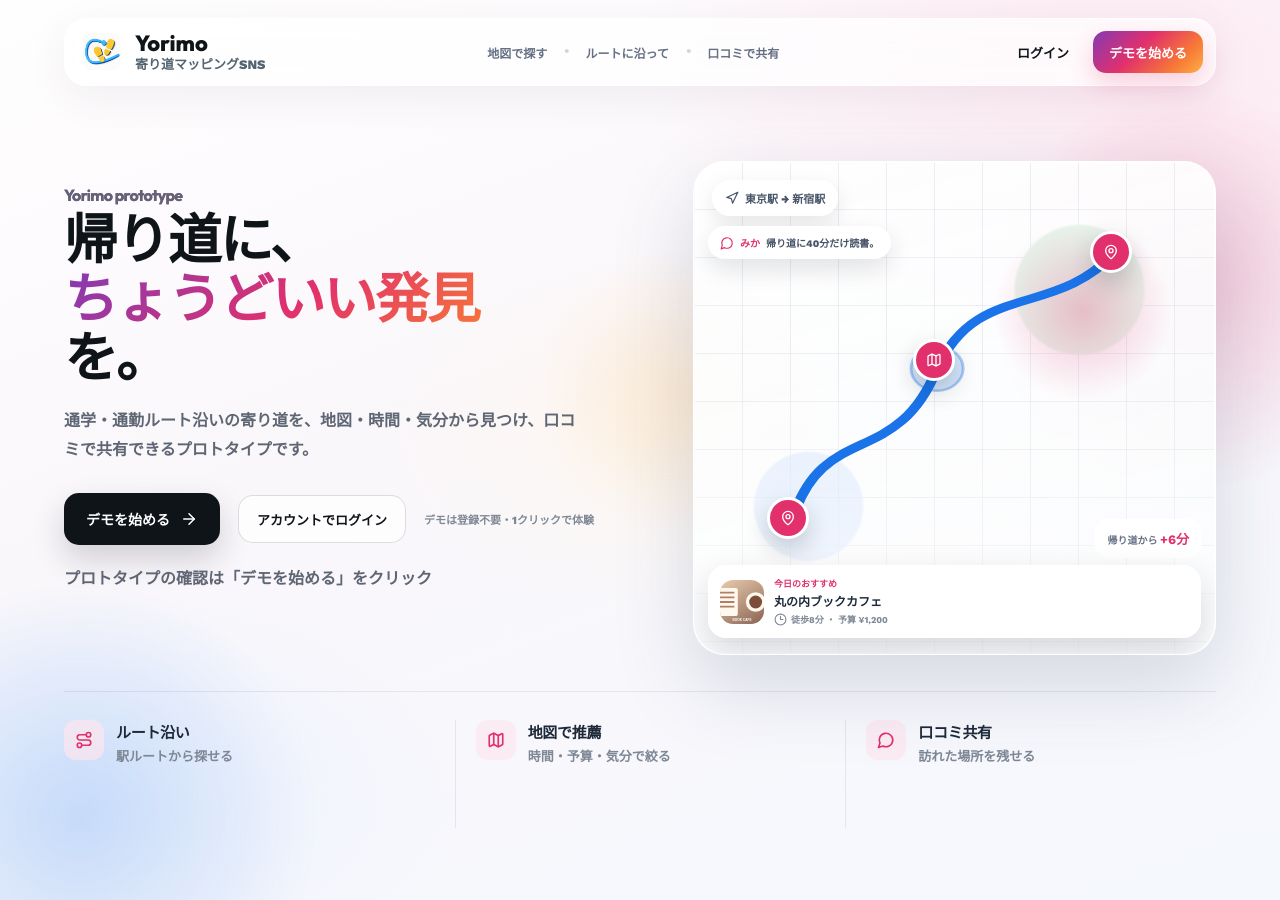
it: Yorimo frontend › offers account registration from the same auth dialog
Click the button "ログイン" at (1043, 52), box [1001,31,1085,73]
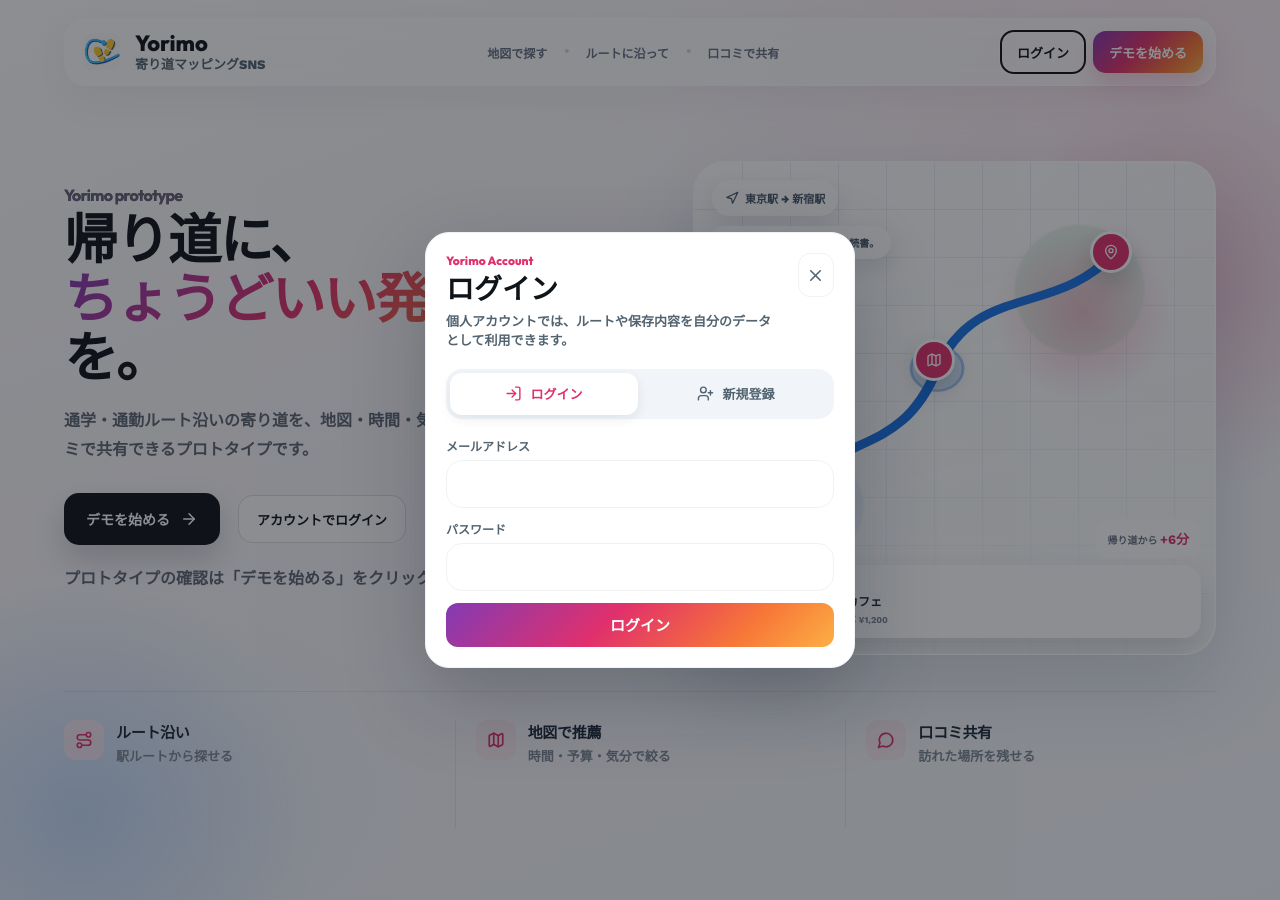
Click the tab "新規登録" at (736, 394), box [642,373,830,415]
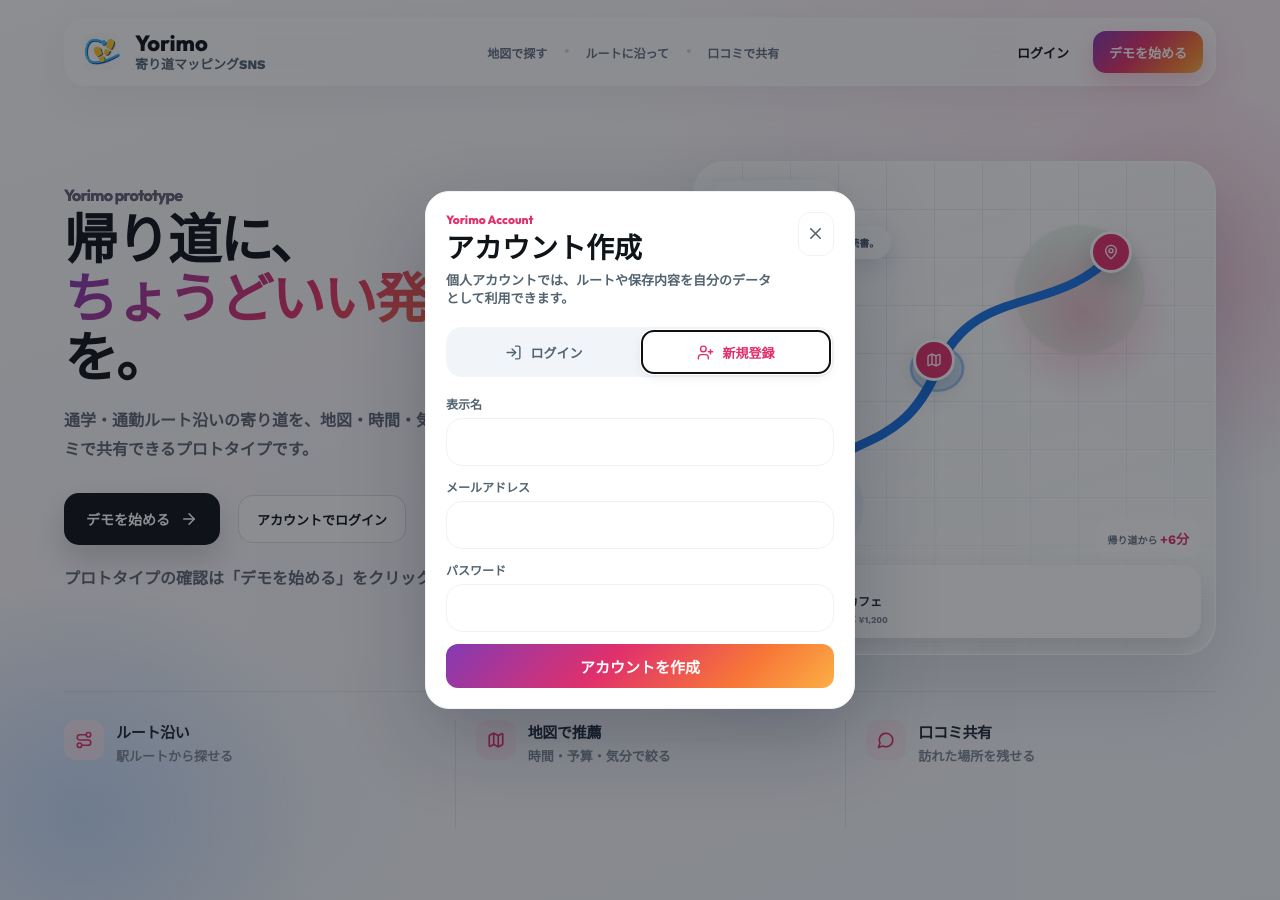
Expected: the dialog "アカウント作成" is shown, [425,191,855,709]
Expected: the button "アカウントを作成" is shown, [446,644,834,688]
